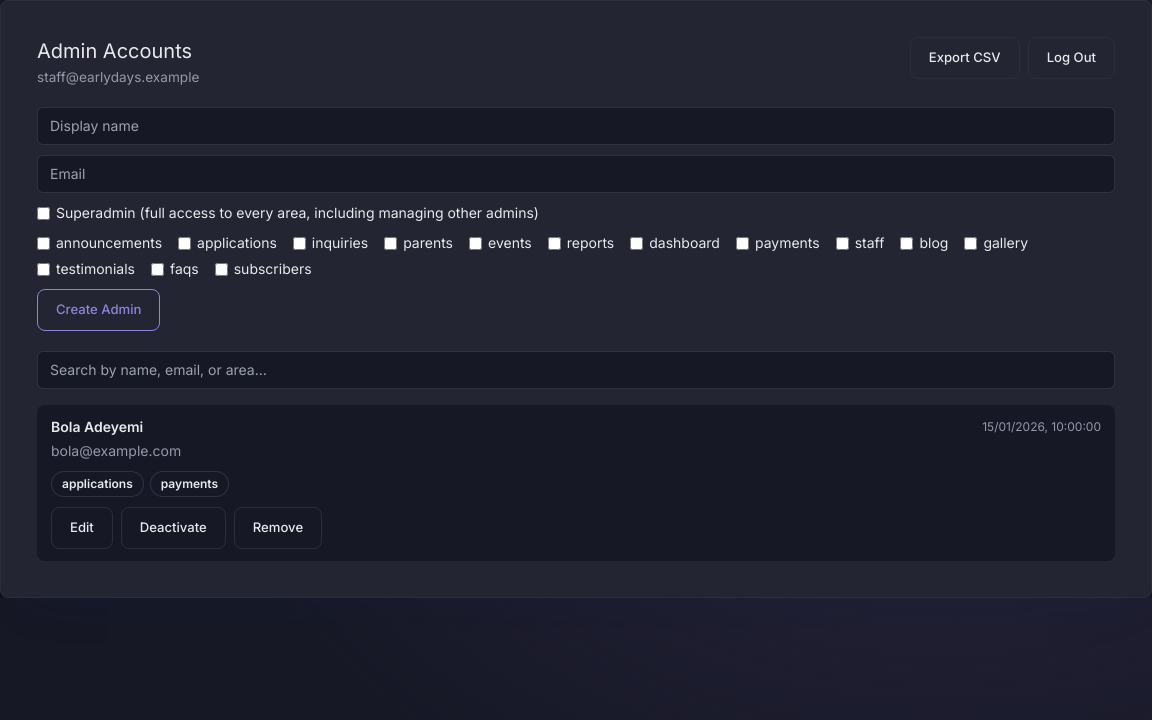
AdminAccessList › removes an admin account via the Remove button
Expected: the text "Bola Adeyemi" is shown, left=51, top=417, right=143, bottom=437
What coordinates should you click on to do the following:
click the button "Remove"
I would click on:
 (278, 528)
Its box is left=234, top=507, right=322, bottom=549.
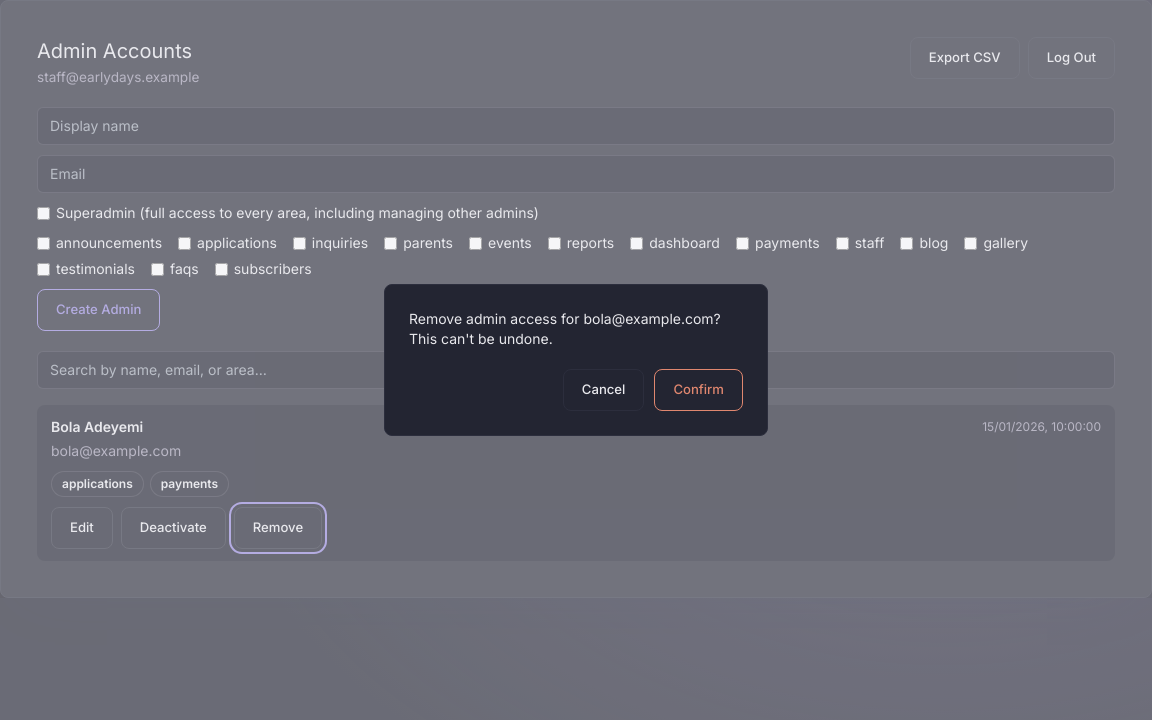
What coordinates should you click on to do the following:
click the button "Confirm"
I would click on:
 (699, 390)
Its box is left=654, top=369, right=743, bottom=411.
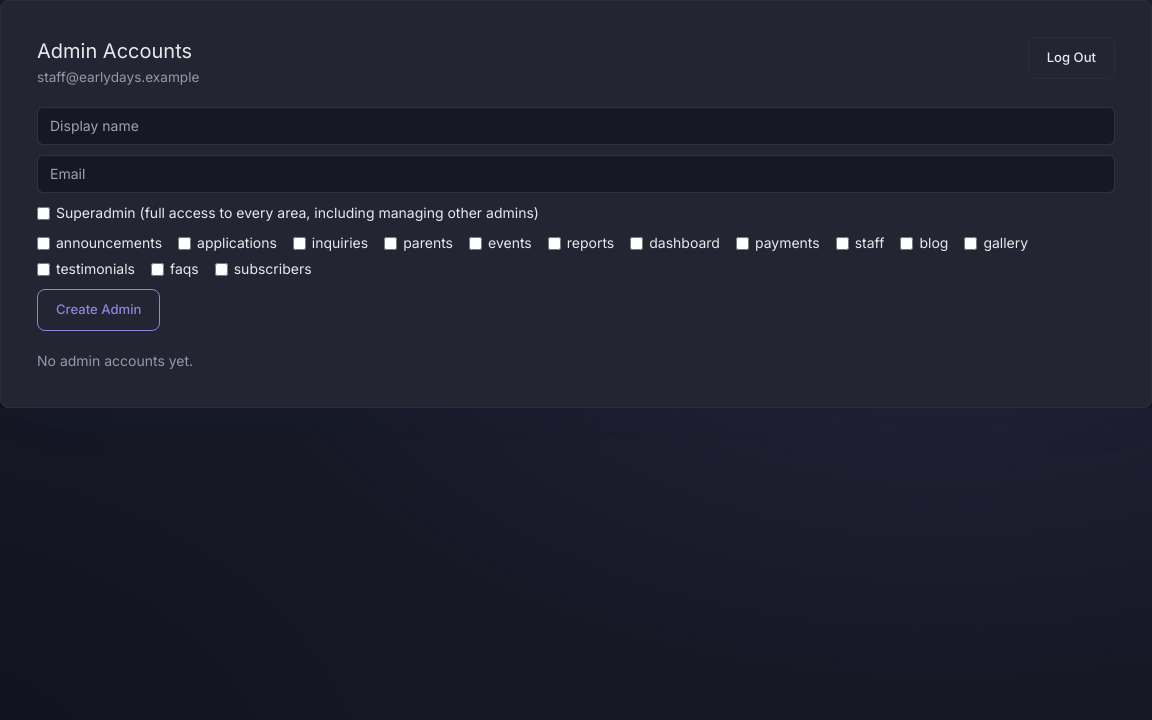
Expected: the text "Bola Adeyemi" is gone
